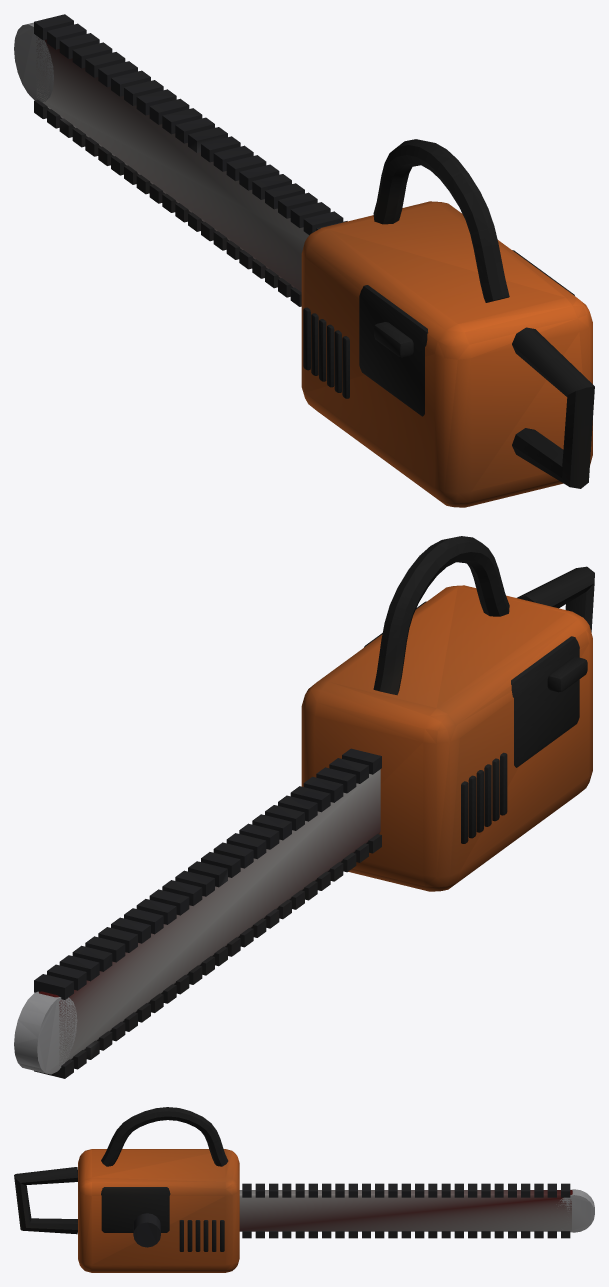
The model's file is Chainsaw.glb.
3 renders of one model, top to bottom at view 1: azimuth 30°, elevation 25°; view 2: azimuth 150°, elevation 25°; view 3: azimuth 270°, elevation 25°, orthographic. The views are drawn at different scales.
Parts seen in each view (by area): view 1: Chainsaw_plastic_orange, Chainsaw_plastic_black, Chainsaw_steel_bloody, Chainsaw_metal_dark, Chainsaw_steel; view 2: Chainsaw_plastic_orange, Chainsaw_steel_bloody, Chainsaw_metal_dark, Chainsaw_plastic_black, Chainsaw_steel; view 3: Chainsaw_plastic_orange, Chainsaw_steel_bloody, Chainsaw_plastic_black, Chainsaw_metal_dark, Chainsaw_steel.
Boxes of the visible parts, x1,y1,x2,y2 form: Chainsaw_plastic_orange: (301, 201, 592, 507); Chainsaw_plastic_black: (303, 139, 594, 488); Chainsaw_steel_bloody: (36, 38, 308, 291); Chainsaw_metal_dark: (34, 14, 347, 306); Chainsaw_steel: (14, 22, 53, 102); Chainsaw_plastic_orange: (301, 585, 592, 891); Chainsaw_steel_bloody: (39, 769, 380, 1065); Chainsaw_metal_dark: (34, 748, 381, 1078); Chainsaw_plastic_black: (364, 536, 594, 843); Chainsaw_steel: (14, 991, 77, 1074); Chainsaw_plastic_orange: (78, 1149, 239, 1272); Chainsaw_steel_bloody: (239, 1190, 572, 1231); Chainsaw_plastic_black: (14, 1107, 228, 1251); Chainsaw_metal_dark: (133, 1183, 570, 1247); Chainsaw_steel: (556, 1189, 594, 1232).
Size of the model in its own units: 1.09 by 1.44 by 5.03.
